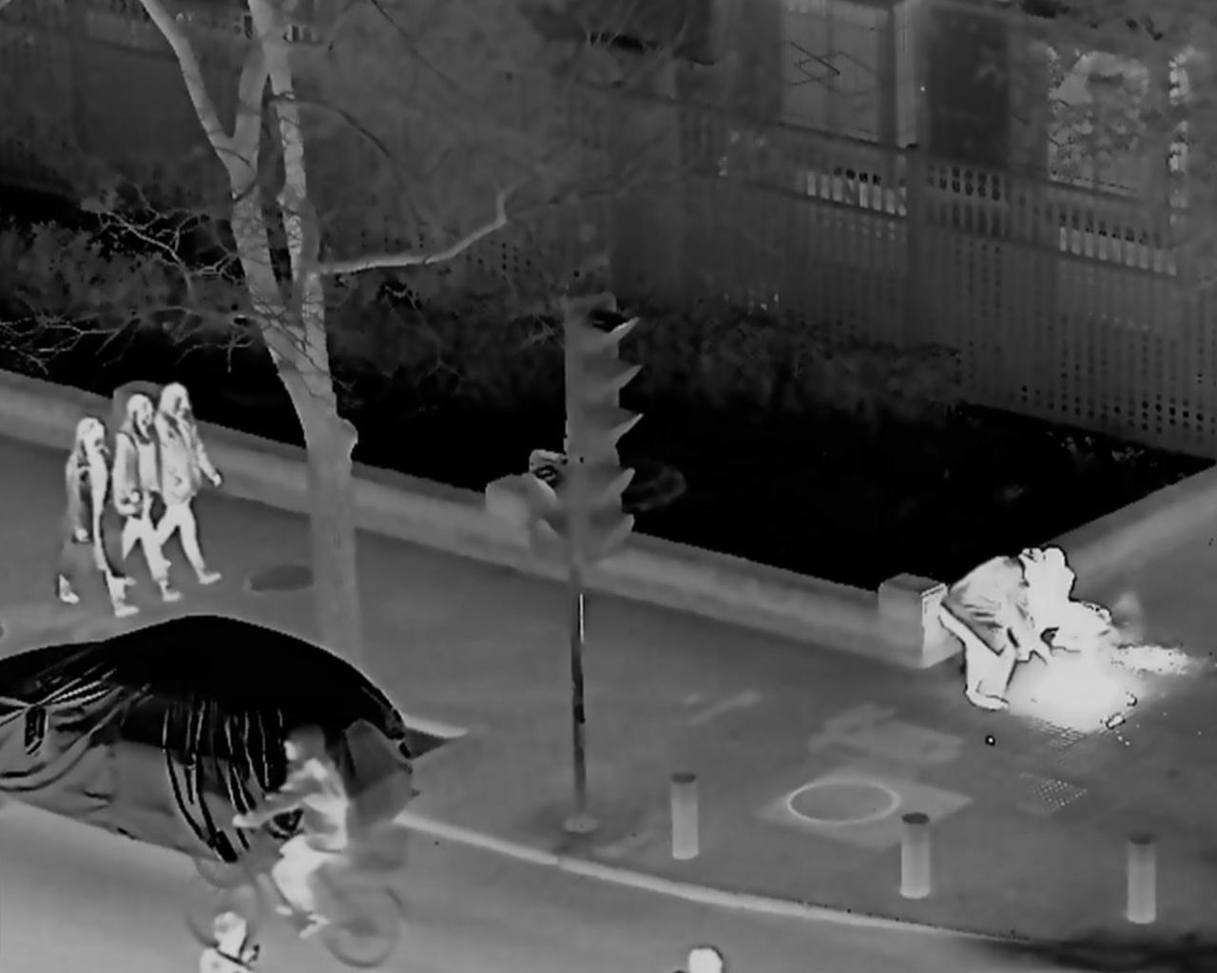person: (230, 730, 351, 936), (932, 541, 1046, 710), (48, 422, 133, 618), (145, 387, 225, 591), (106, 397, 176, 601), (1012, 544, 1107, 663), (195, 911, 260, 973)
